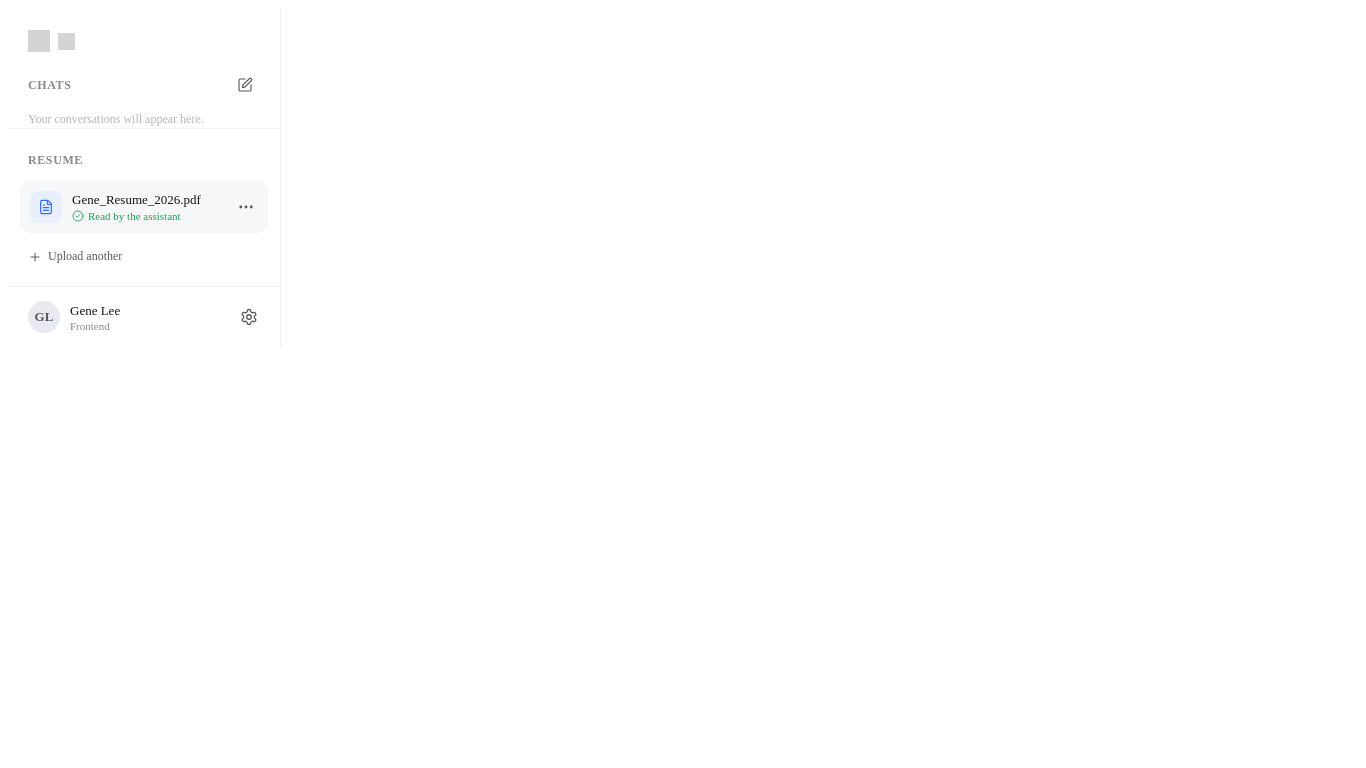
Test: ResumeSidebar › asks before deleting, and deletes only on confirmation
Click the button named "Actions for Gene_Resume_2026.pdf" at [246, 207], box [232,193,260,221]
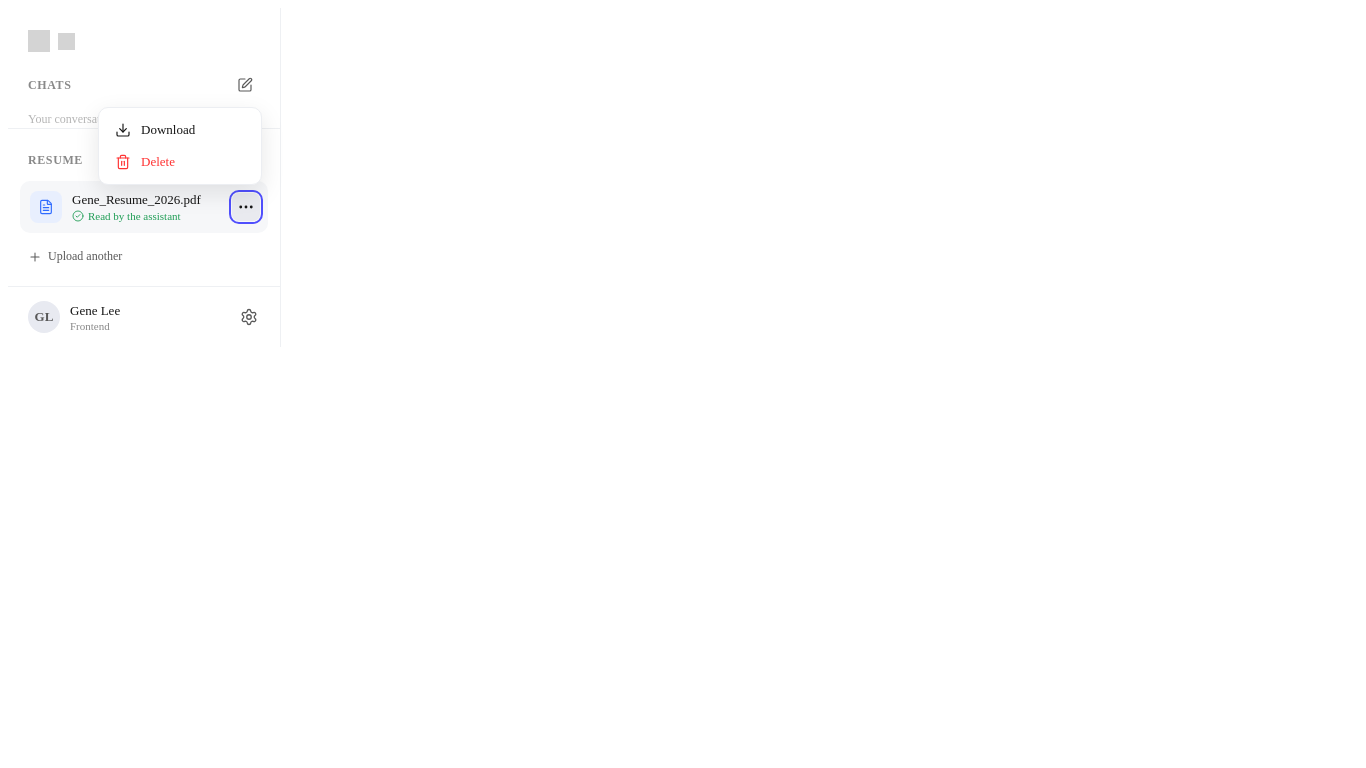
Click the menu item "Delete" at [180, 162], box [105,146,255,178]
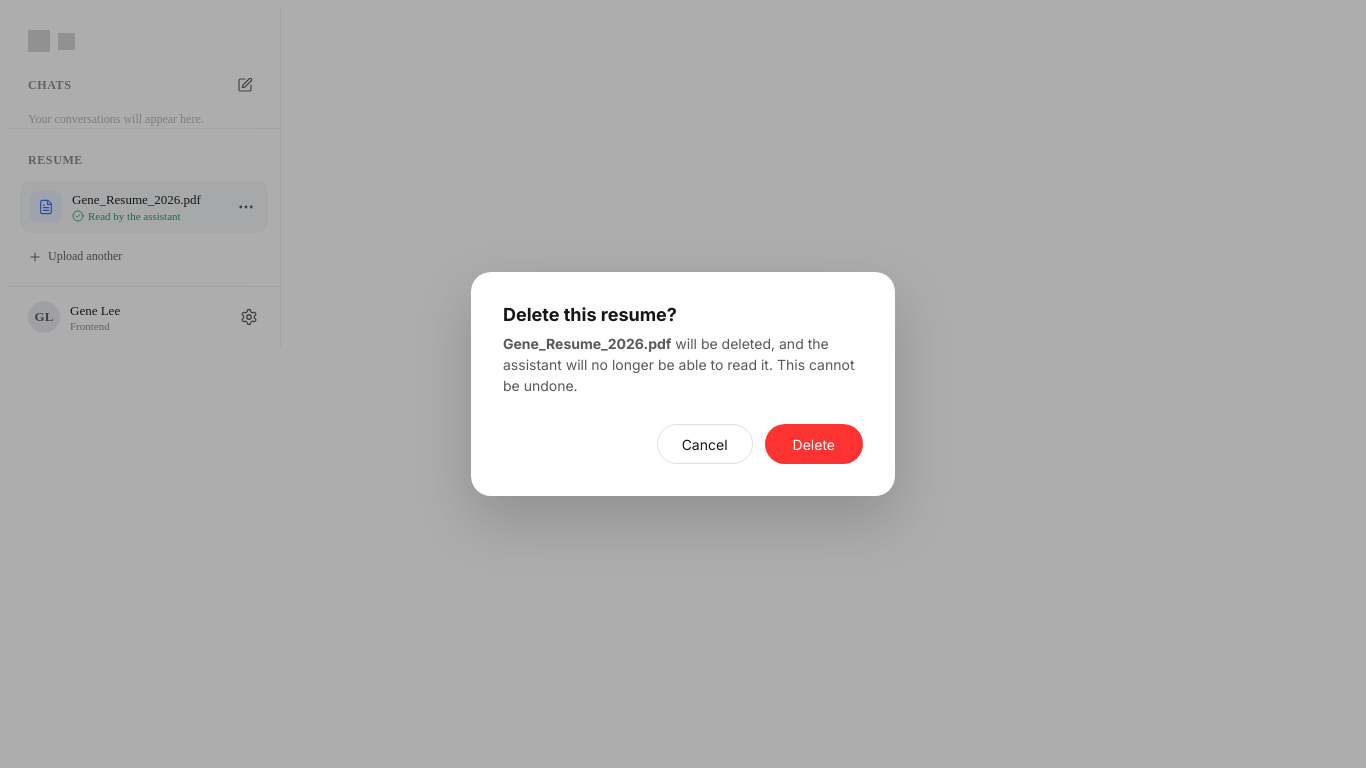
Click the button "Delete" at [814, 444], box [765,424,863,464]
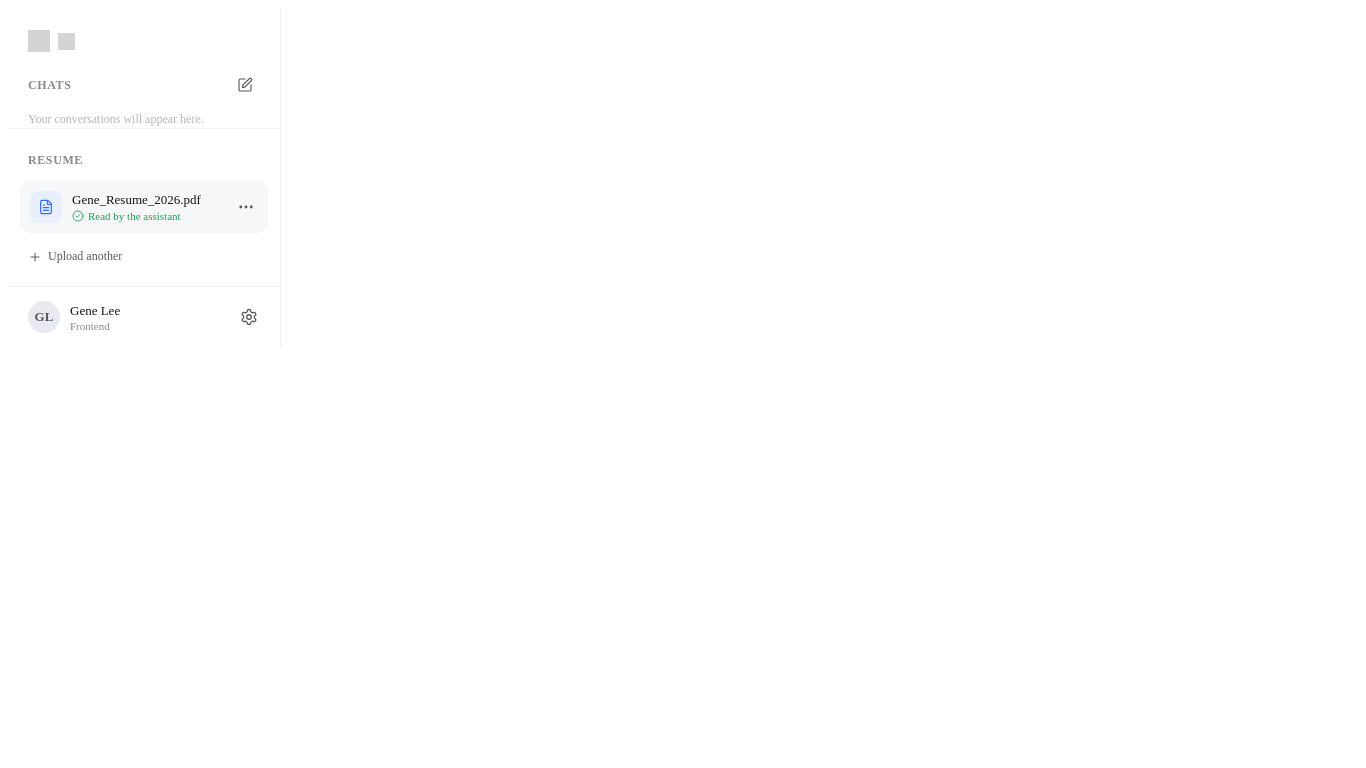
Expected: the dialog is gone
